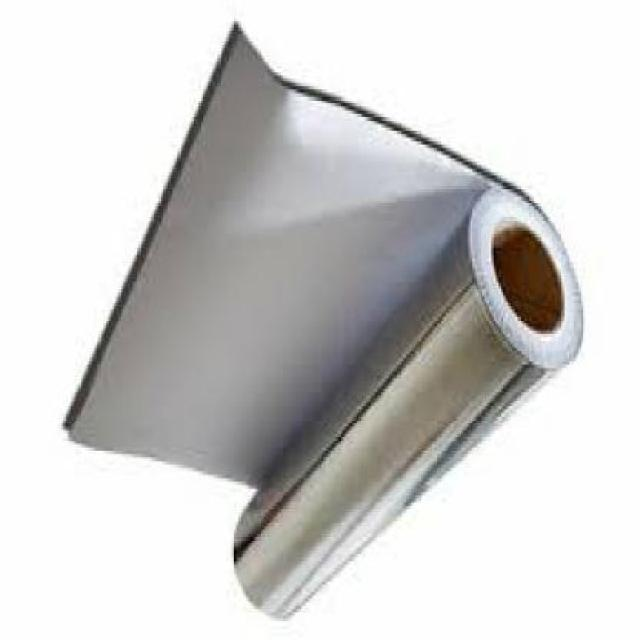METAL: (64, 28, 578, 623)
